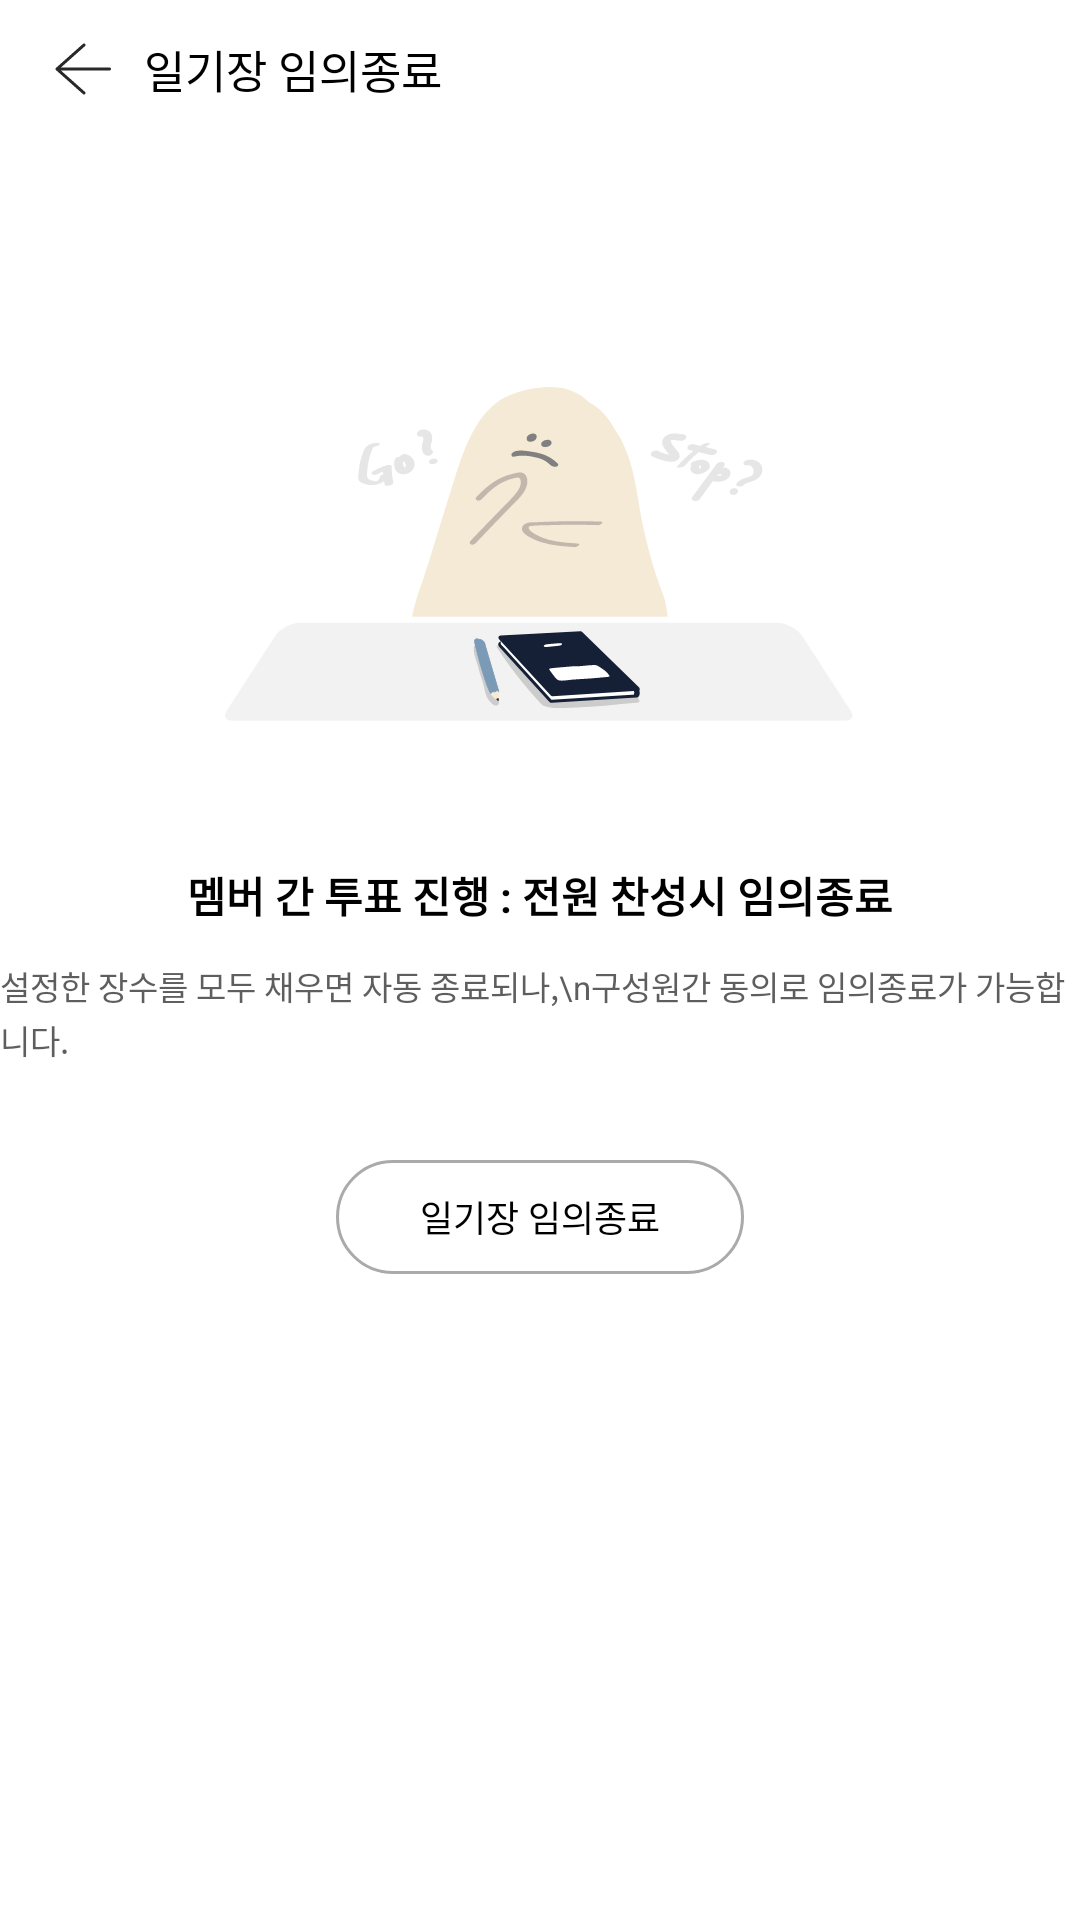

Where to tap for icons on this 1080 × 1920 app screen, as point (x, y):
back: point (83, 69)
